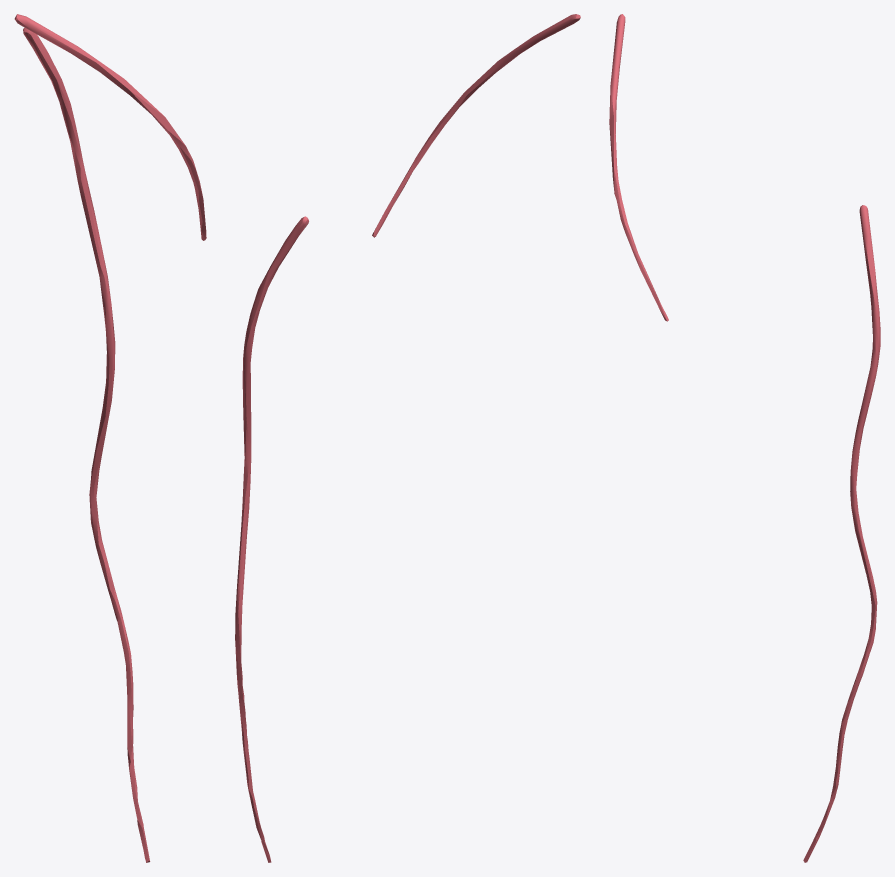
Rendered from fma68068_fj3451.glb.
3 views of the same model, side by side, from view 1: azimuth 30°, elevation 25°; view 2: azimuth 150°, elevation 25°; view 3: azimuth 270°, elevation 25° (orthographic). The views are drawn at different scales.
Visible parts, largest first — view 1: FMA68068_FJ3451; view 2: FMA68068_FJ3451; view 3: FMA68068_FJ3451.
Boxes of the visible parts, bbox=[...] form: FMA68068_FJ3451: bbox=[14, 14, 206, 862]; FMA68068_FJ3451: bbox=[235, 14, 580, 862]; FMA68068_FJ3451: bbox=[609, 14, 880, 862].
Size of the model in its own units: 0.0311 by 0.1127 by 0.0367.
